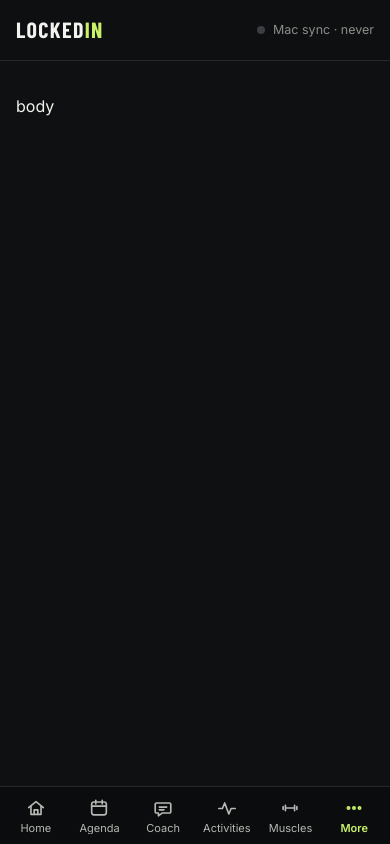
Test: Layout › closes More when you pick the page you're already on
Click the button "More": (354, 816) [322,787,386,843]
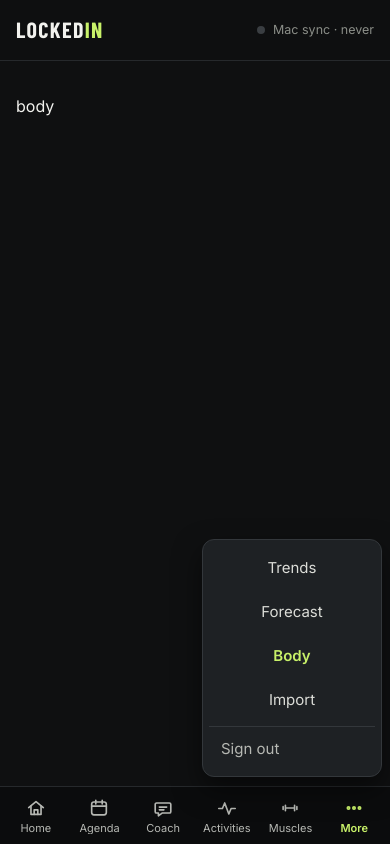
Click the menu item "Body": (292, 655) [273,646,311,665]
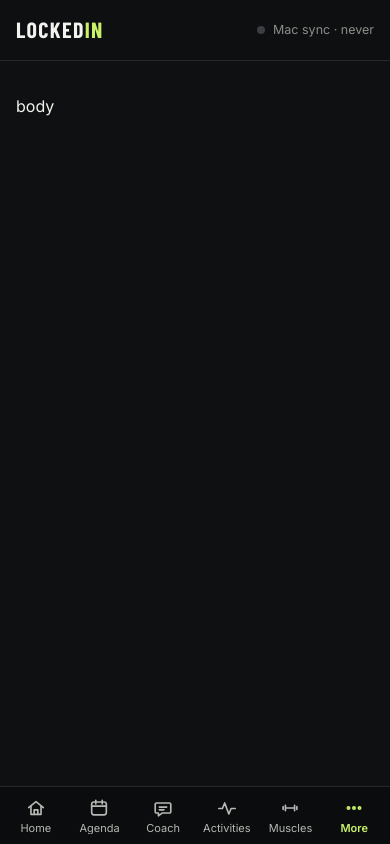
Now the menu is gone
